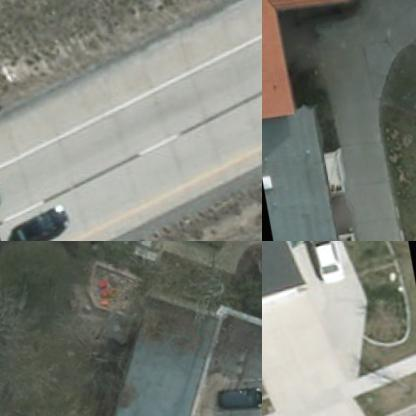car: (0, 204, 71, 240), (301, 241, 346, 291), (202, 382, 261, 415)
